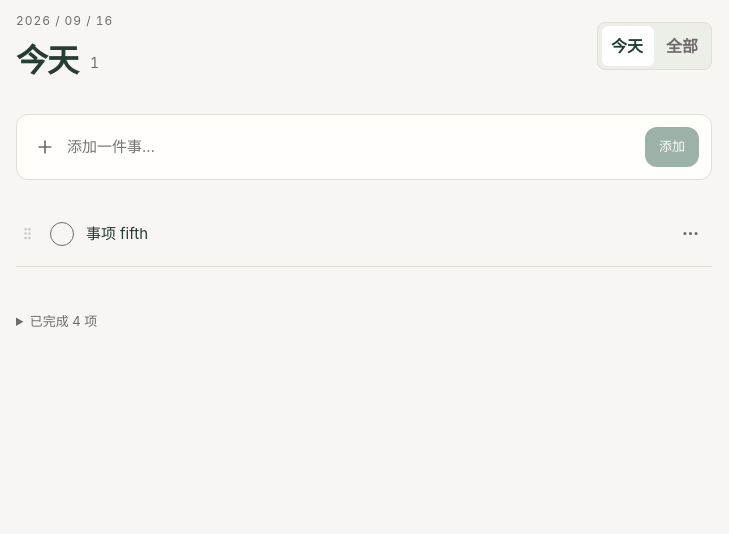
Test: minimal checklist › completes a fifth item once and reverses it without rewards or onboarding
Click the button with class "task-check" at (62, 234), box [50,222,74,246]
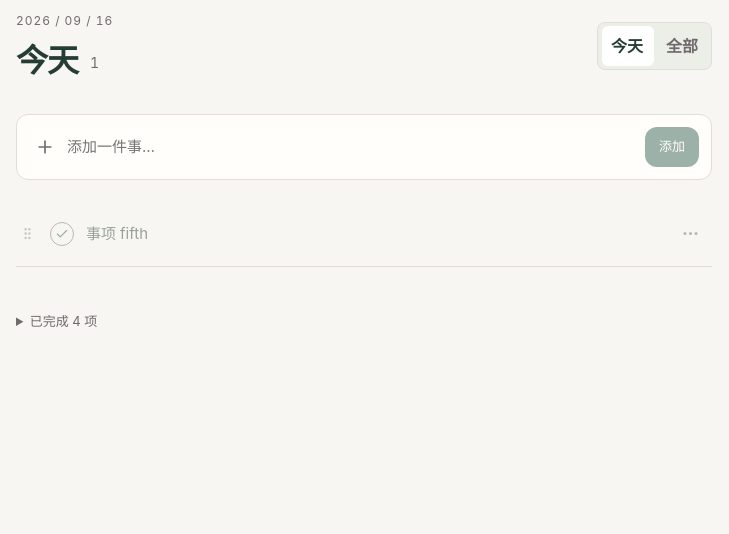
Click the button with class "task-check" at (62, 234), box [50,222,74,246]
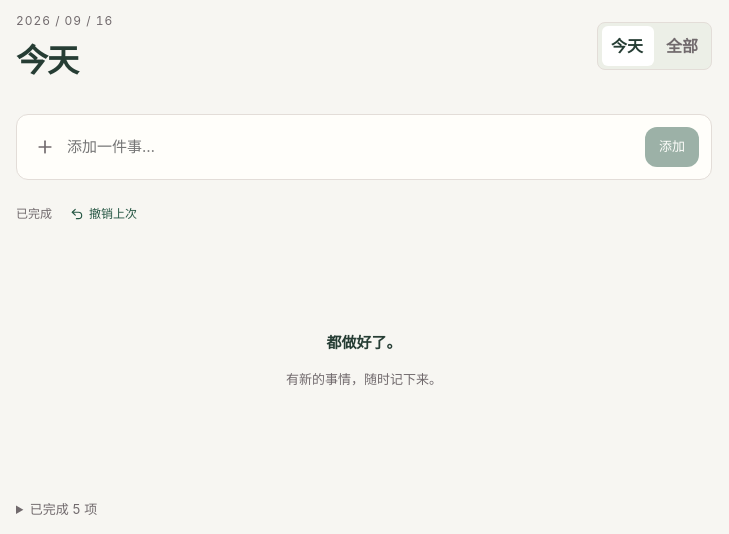
Check: the heading "已完成 5 项" is shown, box [30,502,97,518]
Click the button "撤销上次" at (104, 214), box [70,194,137,234]
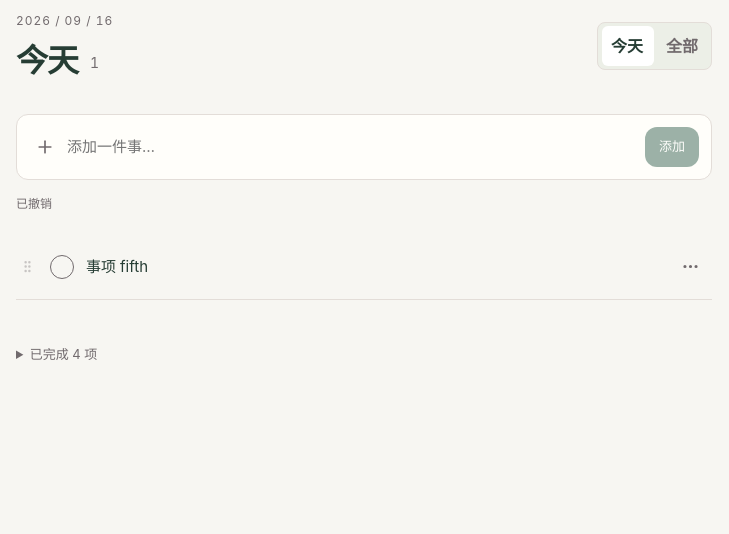
Check: the button with class "task-check" is shown, box [50,255,74,279]
